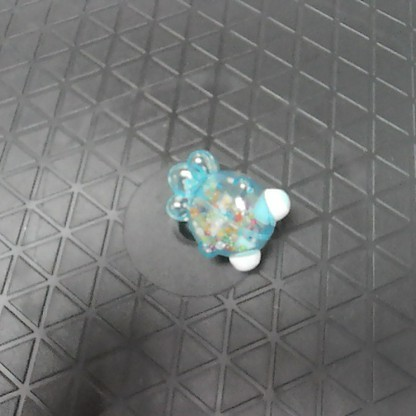bluefish: (160, 145, 292, 273)
